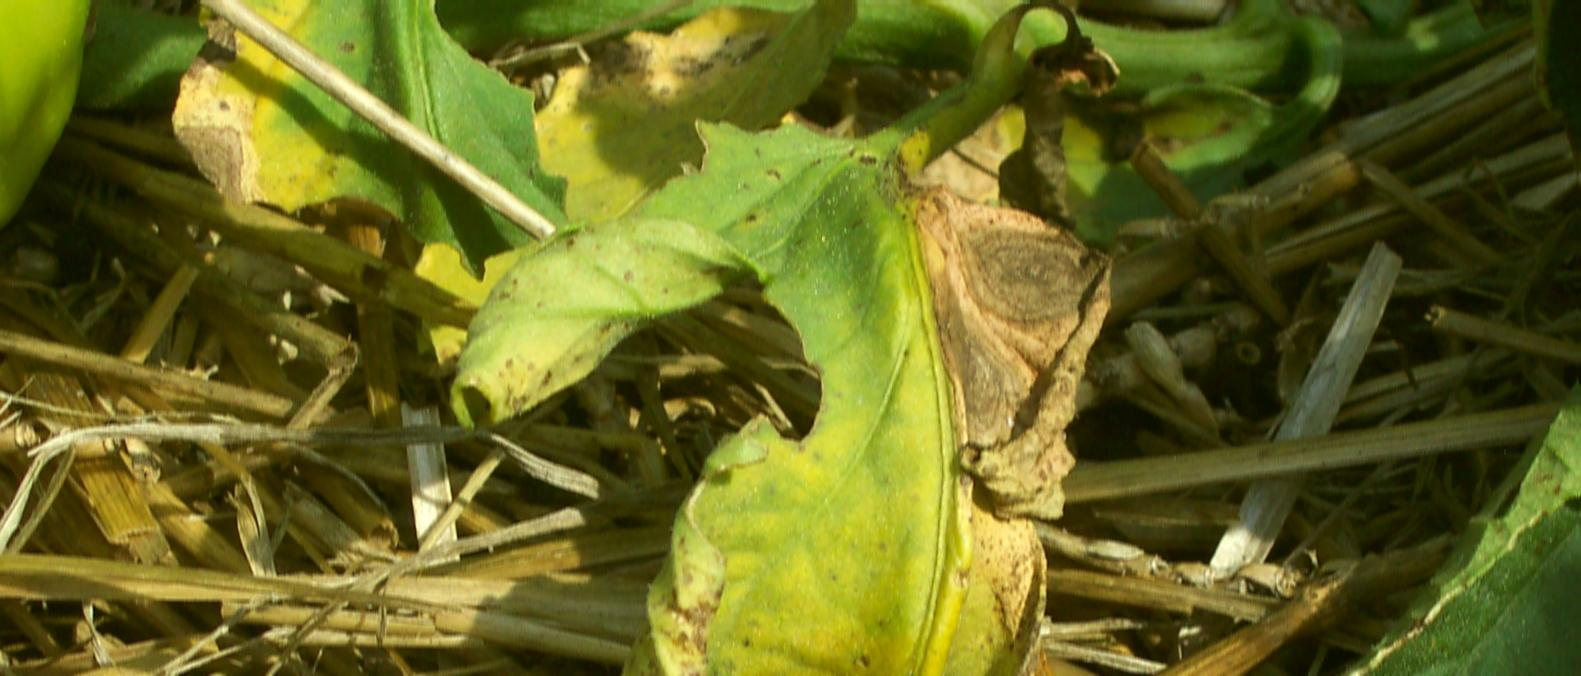Tomato Early blight leaf: (310, 62, 1146, 676)
